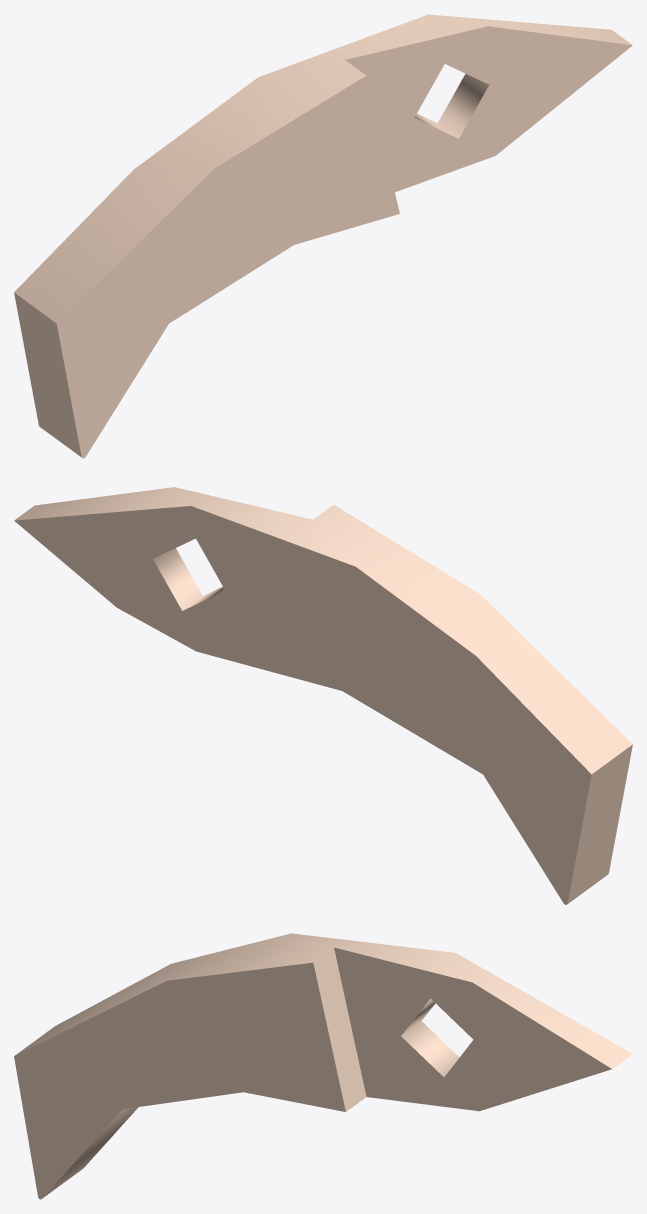
The model's file is Cliquet barillet Mouvement.obj.
3 views of the same model, one above another, from view 1: azimuth 30°, elevation 25°; view 2: azimuth 150°, elevation 25°; view 3: azimuth 330°, elevation 25° (orthographic). The views are drawn at different scales.
Visible parts, largest first — view 1: Face_2, Face_5, Face_7, Face_6, Face_1; view 2: Face_3, Face_5, Face_6, Face_1; view 3: Face_2, Face_7, Face_5, Face_8, Face_1, Face_4.
Part boxes in pixels (left/top/right/bottom): Face_2: left=56, top=76, right=399, bottom=458; Face_5: left=14, top=14, right=632, bottom=323; Face_7: left=345, top=26, right=632, bottom=192; Face_6: left=14, top=292, right=81, bottom=456; Face_1: left=414, top=73, right=488, bottom=138; Face_3: left=14, top=506, right=591, bottom=904; Face_5: left=14, top=487, right=632, bottom=774; Face_6: left=568, top=744, right=632, bottom=902; Face_1: left=153, top=548, right=224, bottom=610; Face_2: left=14, top=962, right=345, bottom=1199; Face_7: left=334, top=947, right=611, bottom=1111; Face_5: left=15, top=933, right=632, bottom=1068; Face_8: left=313, top=948, right=366, bottom=1111; Face_1: left=401, top=998, right=459, bottom=1076; Face_4: left=43, top=1107, right=138, bottom=1197.
Size of the model in its own units: 0.0259 by 0.0132 by 0.0032.
